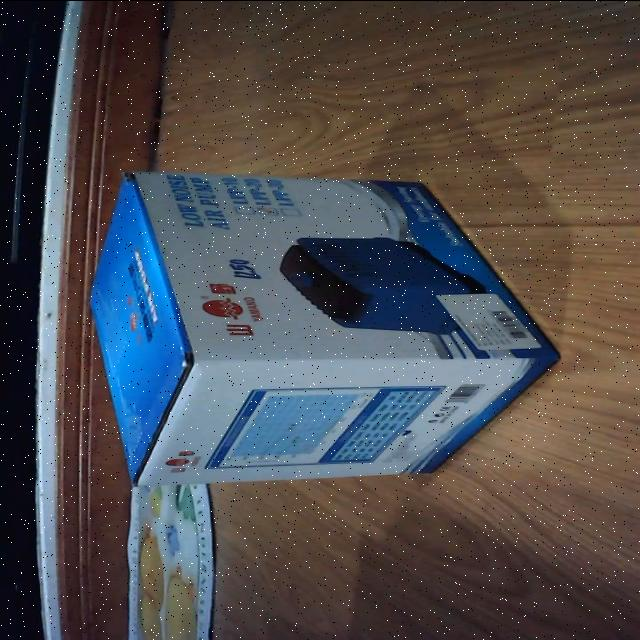YAMANO_LPP_20: (84, 162, 566, 492)
